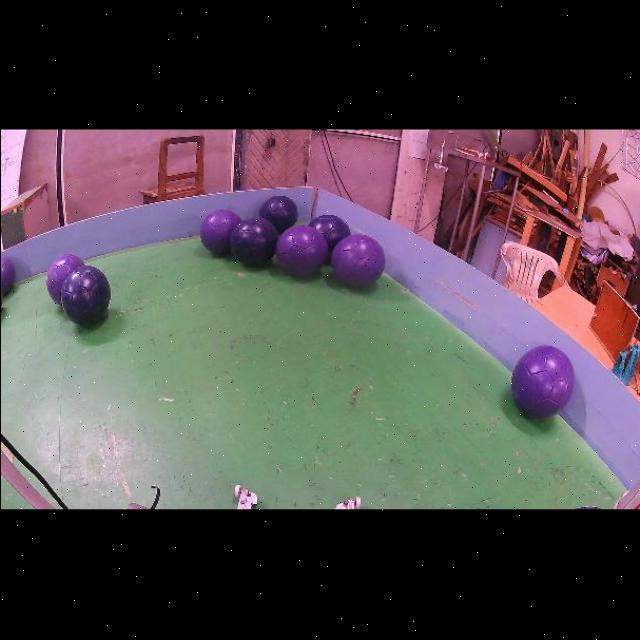B: (60, 263, 109, 323), (229, 216, 278, 264), (309, 212, 351, 261), (258, 194, 297, 232), (0, 254, 13, 294)
P: (511, 344, 574, 417), (331, 233, 385, 285), (276, 224, 328, 275), (199, 207, 240, 253), (46, 252, 83, 302)
